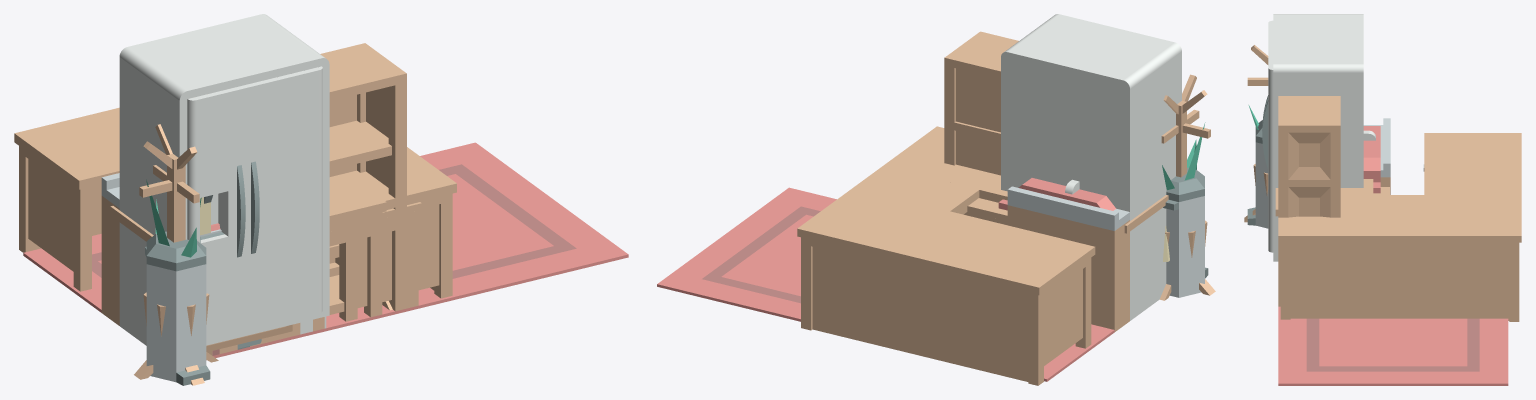
The model's file is mobilier.glb.
3 views of the same model, side by side, from view 1: azimuth 30°, elevation 25°; view 2: azimuth 150°, elevation 25°; view 3: azimuth 270°, elevation 25° (orthographic). The views are drawn at different scales.
Visible parts, largest first — view 1: Mesh kitchenFridgeLarge, Mesh deskCorner, rugRectangle(Clone), doorRight, doorLeft, bookcaseClosedWide(Clone), trashcan(Clone), Mesh desk, coatRackStanding(Clone), table(Clone), Mesh kitchenSink, Mesh kitchenCabinet (+2 smaller); view 2: Mesh deskCorner, Mesh kitchenFridgeLarge, rugRectangle(Clone), bookcaseClosedWide(Clone), Mesh kitchenCabinet, trashcan(Clone), coatRackStanding(Clone), Mesh desk, loungeChair(Clone), Mesh kitchenSink, tableCross(Clone), plant; view 3: Mesh deskCorner, rugRectangle(Clone), Mesh kitchenFridgeLarge, bookcaseClosedWide(Clone), doorRight, trashcan(Clone), loungeChair(Clone), Mesh desk, Mesh kitchenSink, coatRackStanding(Clone).
Boxes of the visible parts, x1,y1,x2,y2 form: Mesh kitchenFridgeLarge: [119, 14, 329, 345]; Mesh deskCorner: [14, 107, 456, 321]; rugRectangle(Clone): [23, 142, 628, 360]; doorRight: [243, 66, 322, 330]; doorLeft: [187, 85, 246, 340]; bookcaseClosedWide(Clone): [320, 43, 406, 314]; trashcan(Clone): [145, 231, 210, 385]; Mesh desk: [110, 173, 386, 325]; coatRackStanding(Clone): [134, 124, 218, 385]; table(Clone): [329, 210, 418, 308]; Mesh kitchenSink: [101, 173, 221, 322]; Mesh kitchenCabinet: [101, 178, 221, 321]; Mesh deskCorner: [797, 126, 1095, 385]; Mesh kitchenFridgeLarge: [1001, 14, 1181, 320]; rugRectangle(Clone): [657, 187, 1114, 381]; bookcaseClosedWide(Clone): [944, 31, 1018, 175]; Mesh kitchenCabinet: [1007, 189, 1129, 331]; trashcan(Clone): [1163, 167, 1208, 297]; coatRackStanding(Clone): [1159, 74, 1215, 300]; Mesh desk: [945, 166, 1168, 323]; loungeChair(Clone): [998, 178, 1116, 210]; Mesh kitchenSink: [1008, 179, 1129, 328]; tableCross(Clone): [967, 198, 1007, 220]; plant: [1162, 122, 1205, 189]; Mesh deskCorner: [1278, 133, 1521, 321]; rugRectangle(Clone): [1278, 306, 1508, 385]; Mesh kitchenFridgeLarge: [1273, 14, 1363, 261]; bookcaseClosedWide(Clone): [1278, 96, 1340, 217]; doorRight: [1262, 41, 1273, 252]; trashcan(Clone): [1247, 120, 1268, 228]; loungeChair(Clone): [1363, 126, 1380, 193]; Mesh desk: [1275, 179, 1373, 216]; Mesh kitchenSink: [1363, 118, 1390, 193]; coatRackStanding(Clone): [1244, 45, 1268, 222].
Bounding box in the file's own units: 1.71 × 0.92 × 1.11.
